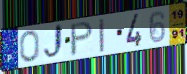4: (125, 12, 143, 49)
6: (148, 10, 167, 45)
I: (97, 18, 105, 55)
J: (42, 23, 65, 63)
O: (18, 29, 41, 63)
P: (70, 20, 95, 58)
